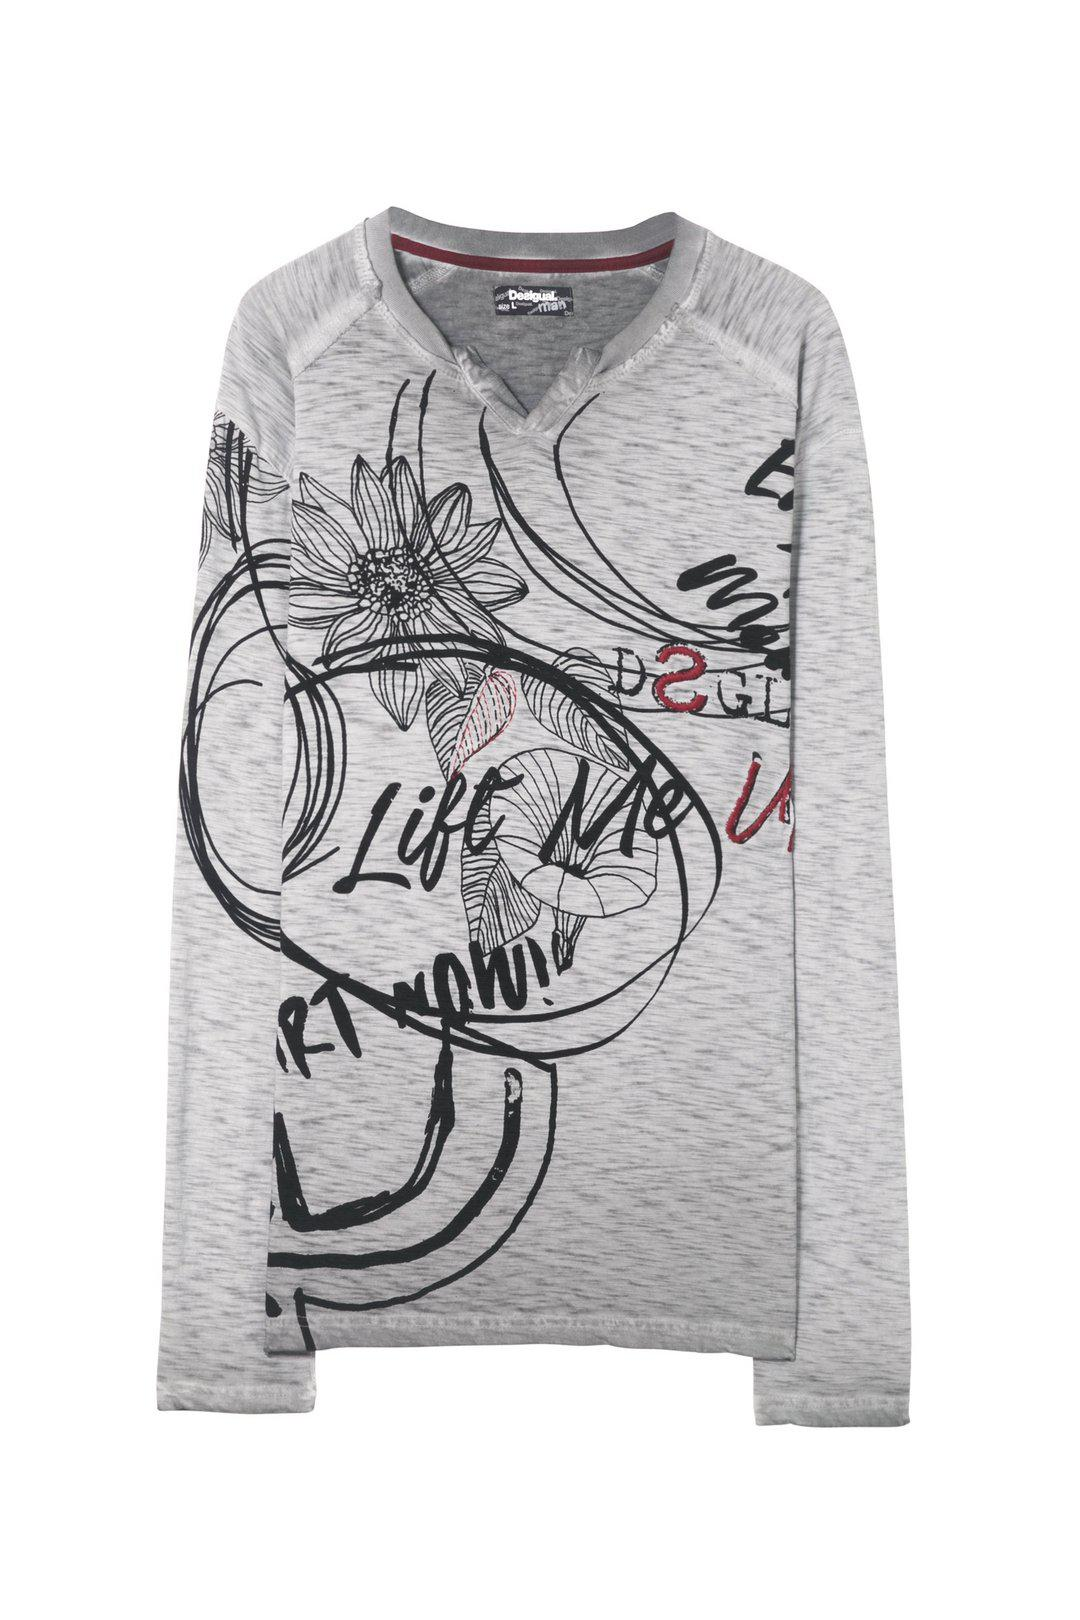teeshirt: (90, 168, 968, 1483)
